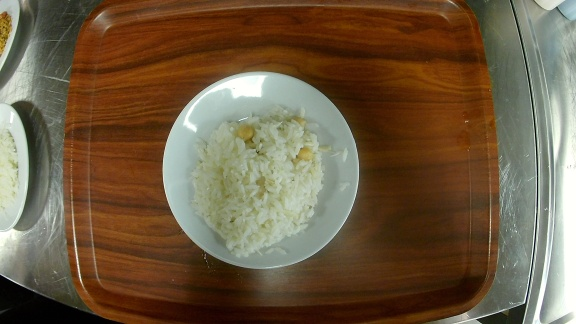nohutlupilav: (162, 71, 361, 270)
